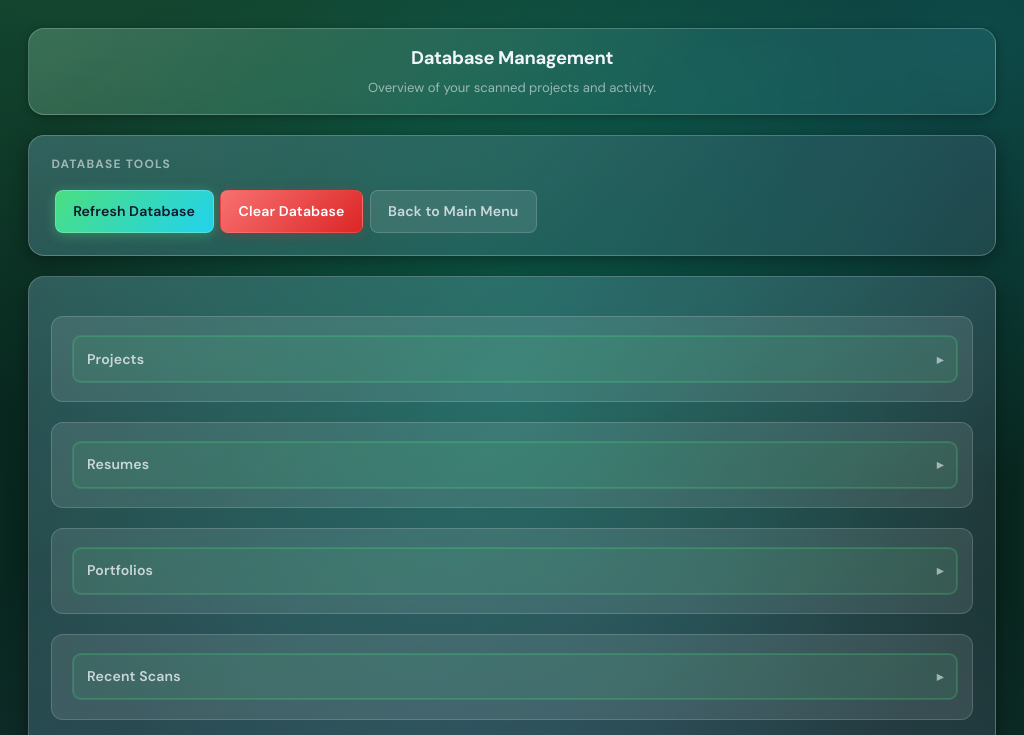
Scenario: DatabaseMaintenance › toggles section visibility when clicked
Click the button "Projects ▸": x=116, y=359 [73, 336, 957, 382]
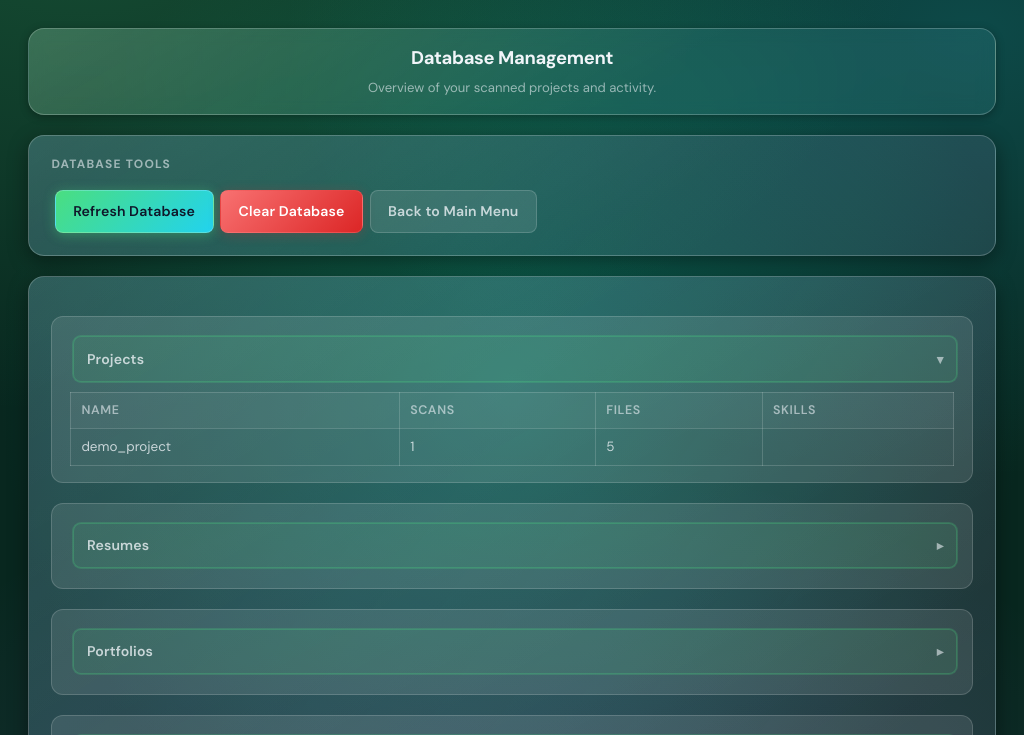
Result: the text "demo_project" is shown at [70, 428, 399, 465]
Click the button "Projects ▾": x=116, y=359 [73, 336, 957, 382]
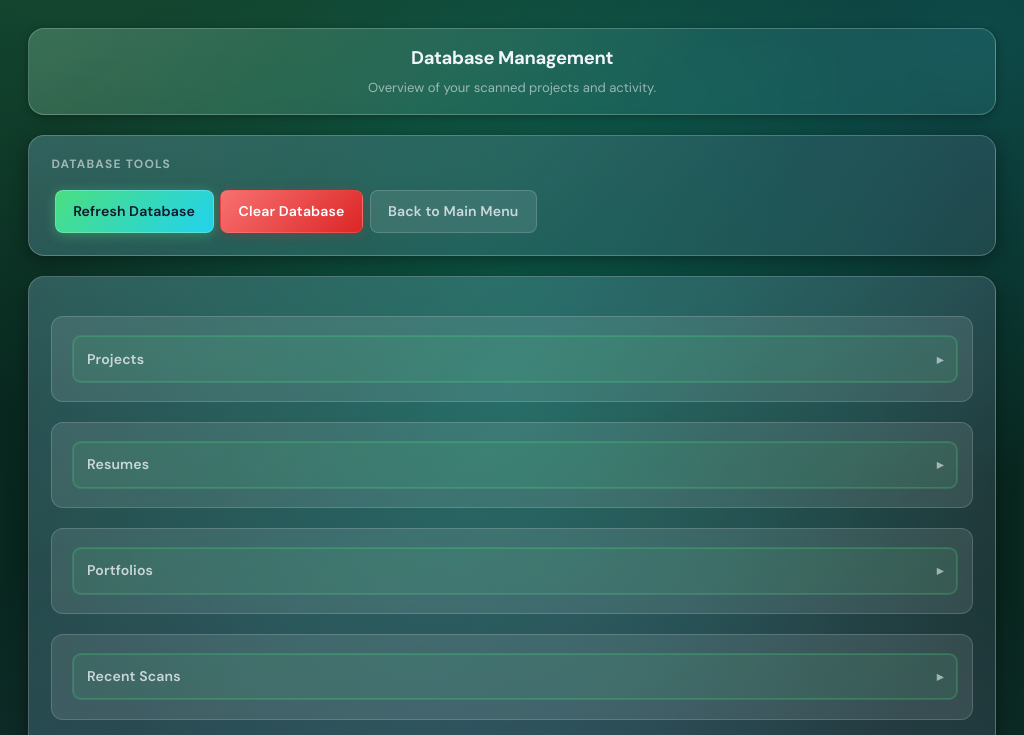
Result: the text "demo_project" is gone
# expand again
Click the button "Projects ▸": x=116, y=359 [73, 336, 957, 382]
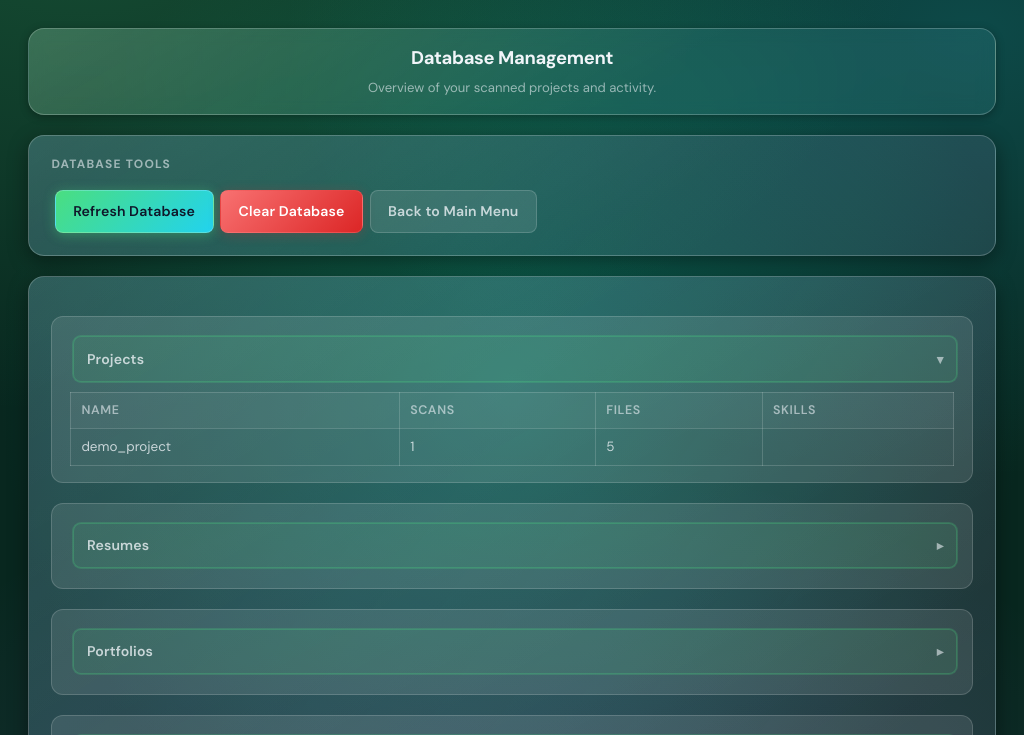
Result: the text "demo_project" is shown at [70, 428, 399, 465]
